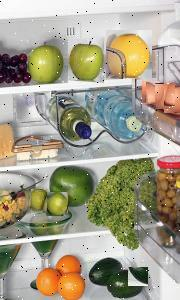Aguacate: (105, 267, 148, 300), (88, 256, 125, 286)
Huevos: (155, 84, 175, 110), (164, 88, 180, 114), (142, 81, 159, 105)
Limón: (46, 192, 68, 216), (31, 189, 47, 213)
Manzana: (106, 30, 152, 79), (28, 38, 64, 84), (68, 38, 104, 83)
